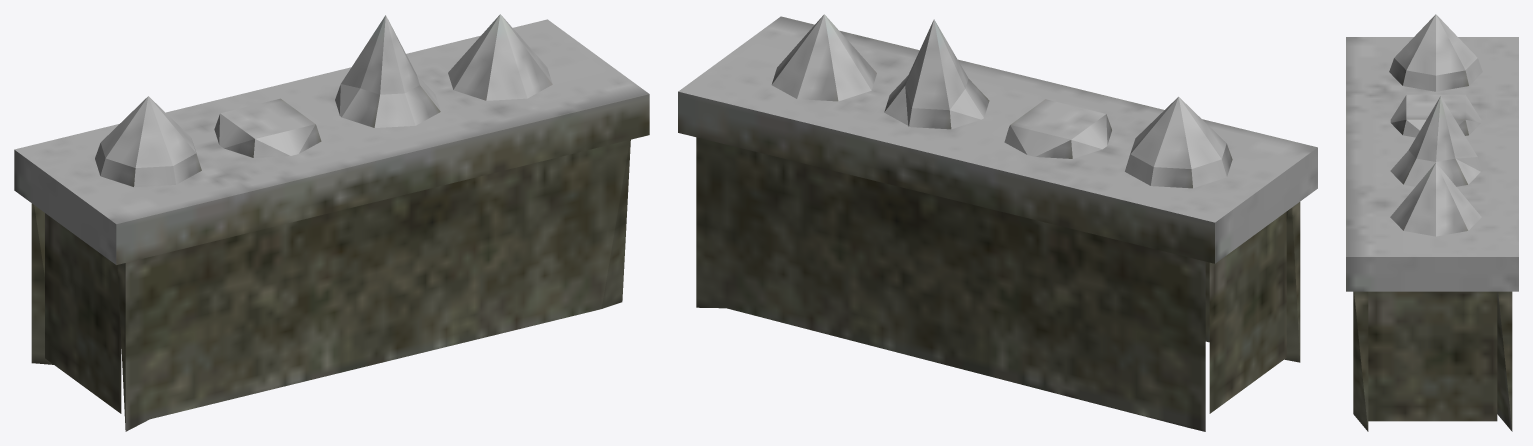
The model's file is general_obj_stonebox_lod_01.fbx.
3 views of the same model, side by side, from view 1: azimuth 30°, elevation 25°; view 2: azimuth 150°, elevation 25°; view 3: azimuth 270°, elevation 25° (orthographic). The views are drawn at different scales.
Parts seen in each view (by area): view 1: Object03; view 2: Object03; view 3: Object03.
Part boxes in pixels (x1,y1,x2,y2): Object03: (14,14,649,431); Object03: (678,14,1317,431); Object03: (1346,14,1518,431).
Bounding box in the file's own units: 2.94 × 1.59 × 0.974.
